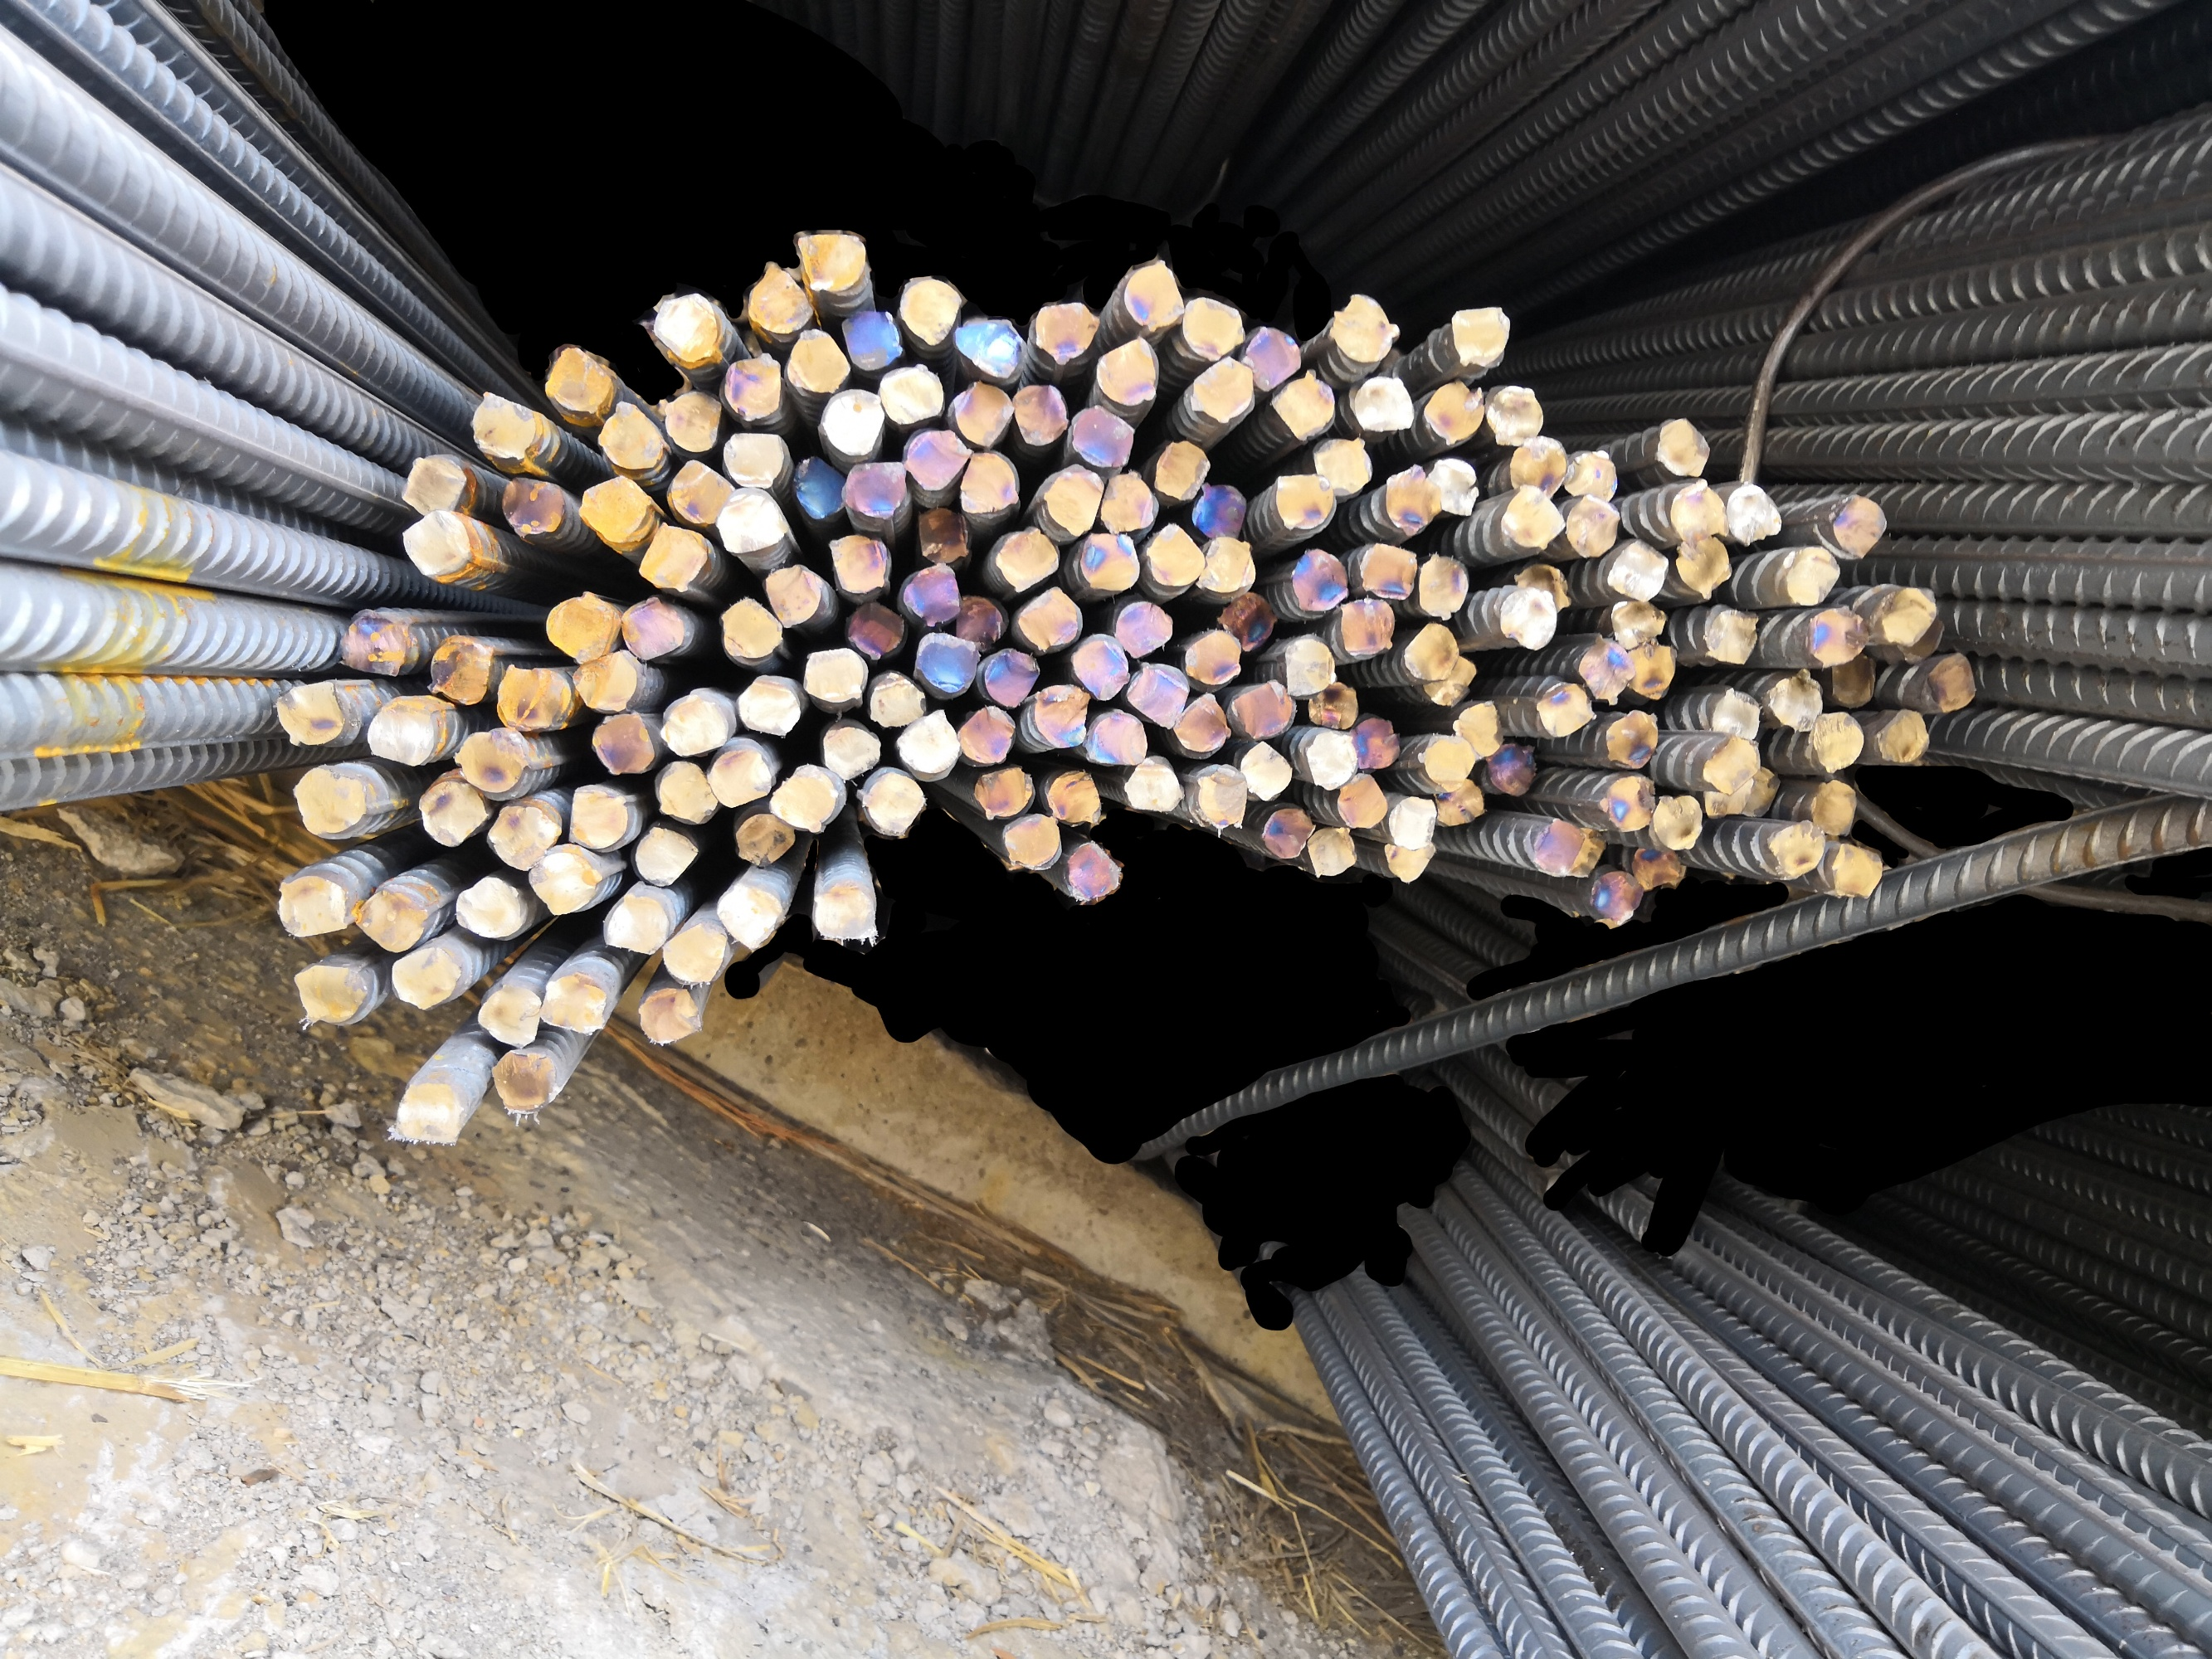rebar: (645, 291, 723, 369), (539, 343, 619, 420), (577, 476, 659, 551), (464, 390, 547, 464), (950, 312, 1030, 383), (525, 849, 605, 920), (366, 692, 441, 767), (295, 765, 371, 838), (485, 802, 563, 871), (744, 261, 812, 342), (769, 763, 842, 836), (403, 512, 483, 579), (899, 274, 971, 347), (716, 488, 790, 559), (340, 606, 410, 681), (791, 228, 868, 296), (781, 326, 852, 397), (415, 777, 486, 849), (397, 451, 474, 518), (638, 526, 715, 592), (657, 690, 734, 756), (812, 873, 879, 950), (450, 730, 528, 795), (1116, 258, 1185, 329), (1327, 295, 1398, 364), (275, 681, 349, 749), (1095, 336, 1163, 410), (546, 592, 621, 659), (619, 599, 694, 666), (296, 957, 366, 1026), (943, 380, 1014, 448), (702, 739, 774, 807), (715, 884, 786, 951), (858, 769, 926, 840), (816, 385, 882, 458), (495, 477, 568, 544), (661, 464, 734, 530), (274, 873, 347, 939), (356, 887, 432, 950), (499, 666, 570, 732), (990, 525, 1062, 591), (427, 633, 492, 706), (392, 1082, 465, 1147), (451, 878, 528, 939), (1602, 535, 1670, 603), (877, 361, 948, 425), (589, 711, 661, 775), (713, 596, 784, 660), (596, 401, 659, 474), (720, 429, 795, 490), (661, 918, 727, 986), (722, 352, 786, 422), (899, 430, 969, 495), (732, 673, 805, 734), (1044, 465, 1105, 538), (568, 782, 634, 849), (842, 460, 908, 526), (1177, 295, 1245, 359), (1185, 763, 1248, 833), (1529, 819, 1598, 882), (657, 389, 722, 455), (915, 634, 981, 699), (1075, 533, 1142, 598), (1030, 681, 1095, 748), (1124, 662, 1189, 728), (1499, 486, 1565, 551), (1018, 586, 1081, 653), (1187, 359, 1255, 422), (1422, 378, 1485, 446), (490, 1051, 560, 1112), (830, 533, 891, 603), (898, 709, 959, 779), (570, 652, 641, 711), (763, 561, 823, 633), (654, 763, 718, 828), (840, 308, 903, 375), (542, 974, 608, 1037), (603, 894, 669, 957), (1142, 523, 1204, 589), (631, 826, 699, 887), (1034, 301, 1102, 362), (790, 453, 847, 525), (1082, 711, 1150, 770), (1274, 368, 1333, 436), (1290, 545, 1347, 615), (389, 953, 460, 1009), (802, 647, 873, 702), (1381, 464, 1436, 535), (1663, 479, 1726, 542), (1100, 471, 1161, 535), (474, 986, 540, 1046), (1069, 410, 1137, 467), (955, 453, 1016, 516), (1508, 437, 1571, 498), (1400, 624, 1462, 685), (1499, 587, 1560, 650), (898, 565, 962, 624), (1804, 606, 1869, 666), (1245, 324, 1302, 390), (1231, 680, 1297, 737), (1774, 547, 1841, 605), (1415, 552, 1468, 624), (959, 704, 1020, 765), (1070, 636, 1130, 699), (1271, 471, 1333, 530), (1673, 537, 1731, 601), (1014, 382, 1069, 450), (1579, 636, 1632, 706), (1062, 842, 1121, 903), (1532, 678, 1595, 735), (818, 723, 882, 779), (980, 645, 1044, 701), (1452, 303, 1508, 368), (1870, 586, 1935, 641), (1766, 821, 1825, 880), (1124, 756, 1182, 817), (1830, 495, 1888, 556), (1154, 439, 1210, 502), (1279, 636, 1335, 699), (1703, 603, 1759, 666), (865, 673, 929, 727), (1351, 378, 1415, 432), (1564, 495, 1618, 559), (1727, 479, 1780, 545), (1487, 385, 1546, 443), (638, 988, 699, 1044), (1313, 439, 1374, 495), (999, 816, 1062, 870), (1175, 692, 1229, 755), (1180, 629, 1243, 683), (1356, 544, 1419, 598), (1700, 741, 1764, 793), (973, 767, 1039, 817), (1654, 418, 1712, 476), (1768, 671, 1823, 730), (915, 504, 969, 565), (1048, 769, 1102, 829), (1243, 739, 1295, 802), (1604, 777, 1659, 835), (736, 812, 795, 866), (1335, 772, 1389, 831), (1607, 711, 1661, 770), (845, 605, 906, 657), (1112, 603, 1173, 655), (1304, 728, 1356, 789), (1382, 796, 1443, 849), (1811, 711, 1863, 772), (1431, 453, 1480, 518), (1222, 592, 1279, 647), (1191, 484, 1248, 538), (1339, 598, 1393, 655), (1829, 843, 1883, 899), (1651, 791, 1703, 849), (1560, 450, 1621, 498), (1452, 699, 1506, 753), (1588, 873, 1642, 927), (1204, 535, 1257, 591), (1259, 807, 1313, 859), (1876, 709, 1930, 762), (1419, 734, 1475, 784), (1809, 779, 1858, 836), (1520, 561, 1572, 613), (1487, 742, 1537, 796), (1626, 643, 1675, 699), (1926, 655, 1975, 711), (1614, 599, 1670, 647), (1306, 828, 1356, 878), (1710, 692, 1764, 739), (1309, 681, 1358, 732), (1353, 718, 1400, 770), (1428, 657, 1475, 709), (1436, 782, 1487, 829), (1832, 653, 1877, 706), (959, 594, 1002, 648), (1635, 843, 1682, 890), (1382, 847, 1438, 885), (1703, 777, 1752, 817), (1896, 620, 1945, 660), (1745, 767, 1780, 816)
